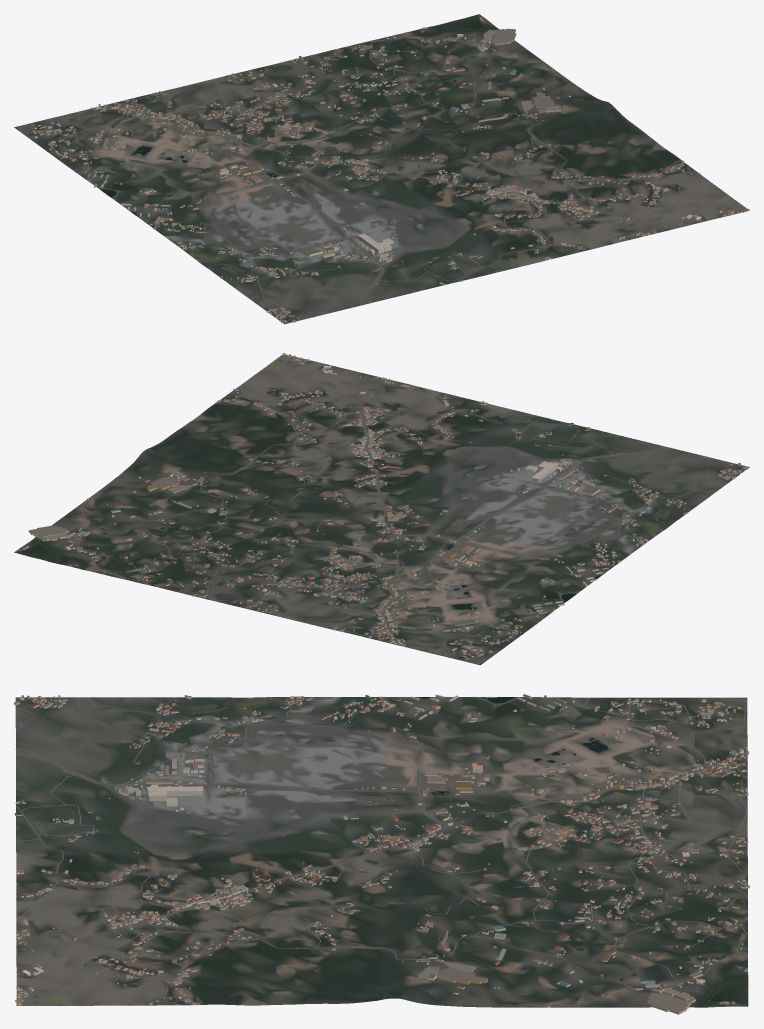
3 renders of one model, top to bottom at view 1: azimuth 30°, elevation 25°; view 2: azimuth 150°, elevation 25°; view 3: azimuth 270°, elevation 25°, orthographic. The views are drawn at different scales.
Visible parts, largest first — view 1: ground, buildings, roads, water; view 2: ground, buildings, roads, water; view 3: ground, buildings, roads, water.
Part boxes in pixels (box(x1,y1,x2,y2)): ground: box(14, 14, 749, 324); buildings: box(32, 17, 749, 322); roads: box(17, 27, 745, 322); water: box(100, 23, 732, 275); ground: box(14, 354, 749, 665); buildings: box(22, 353, 748, 659); roads: box(67, 356, 743, 664); water: box(30, 359, 670, 610); ground: box(15, 696, 748, 1007); buildings: box(14, 694, 749, 1014); roads: box(15, 696, 747, 1007); water: box(30, 697, 747, 1007).
Bounding box in the file's own units: 2872 × 42.25 × 2820.
